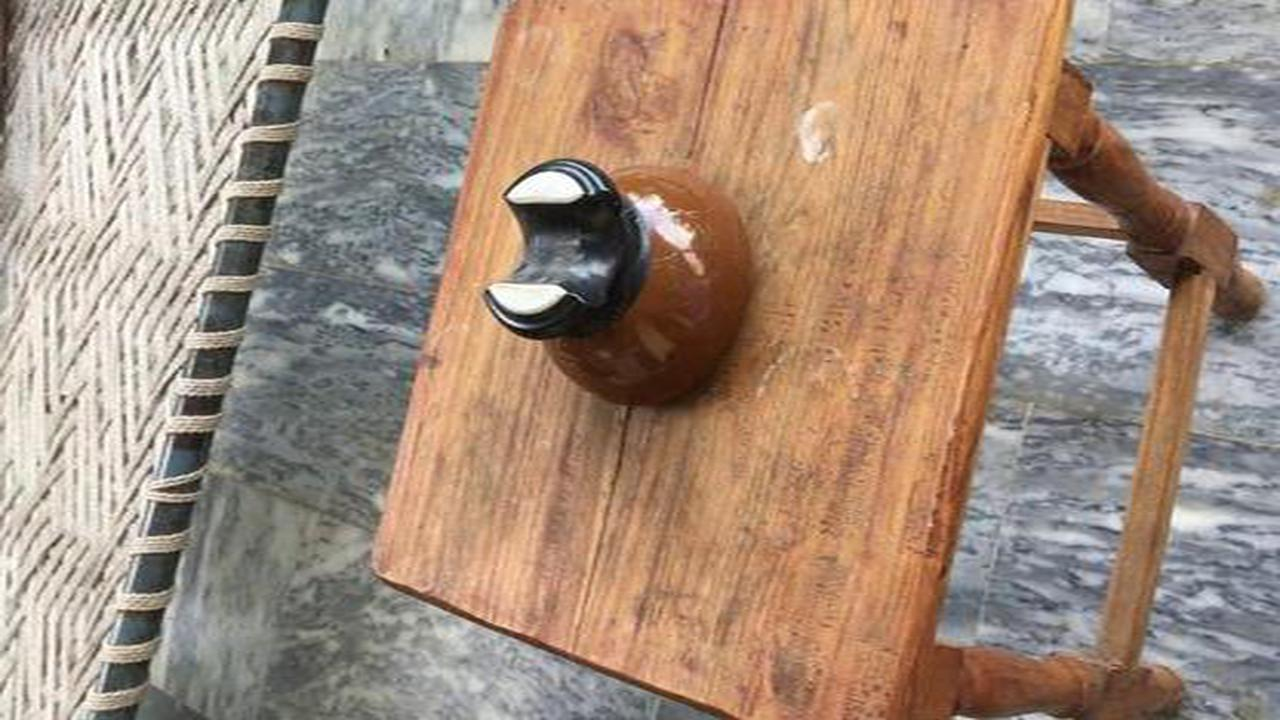insulator_pin: (465, 144, 779, 423)
